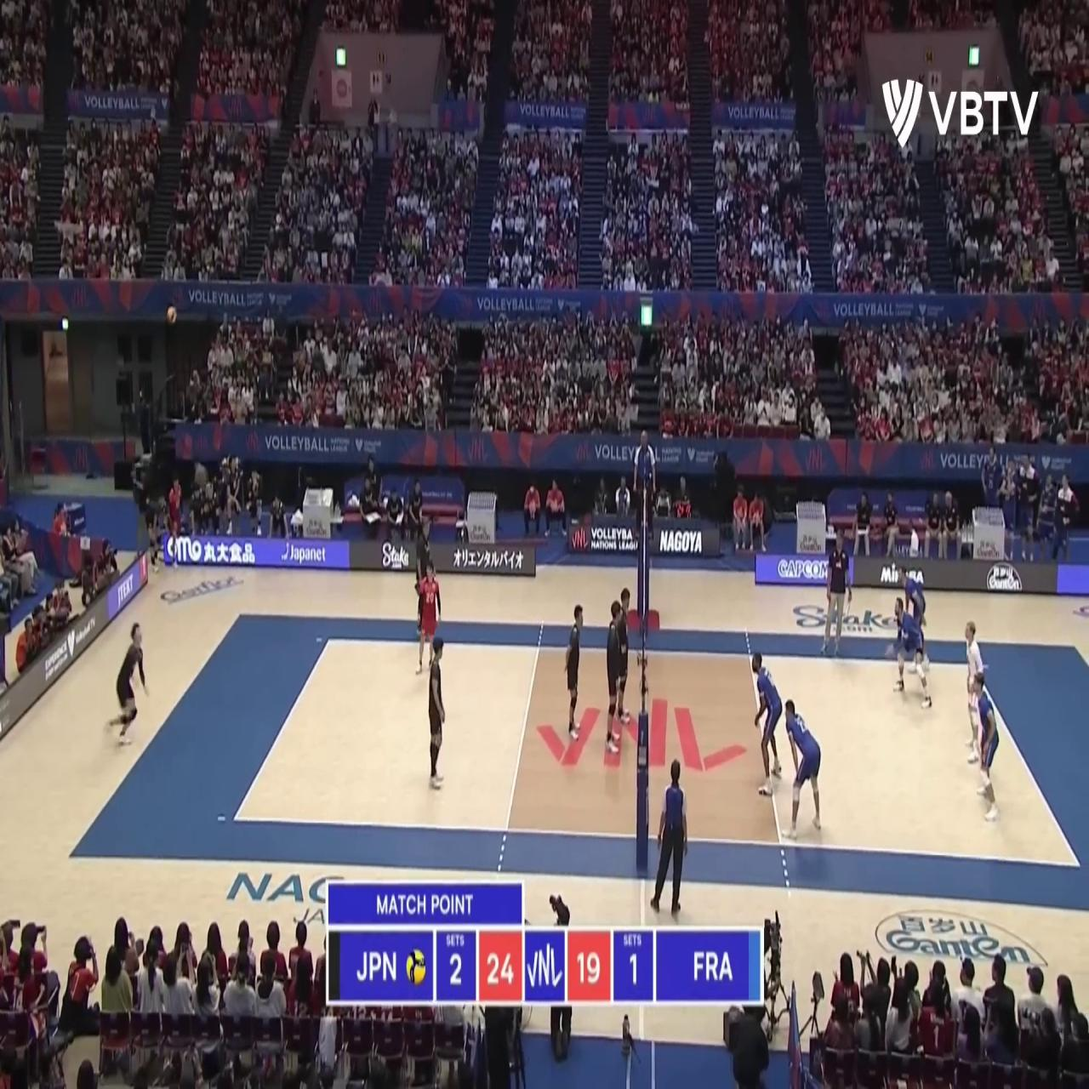ball: (166, 306, 178, 326)
